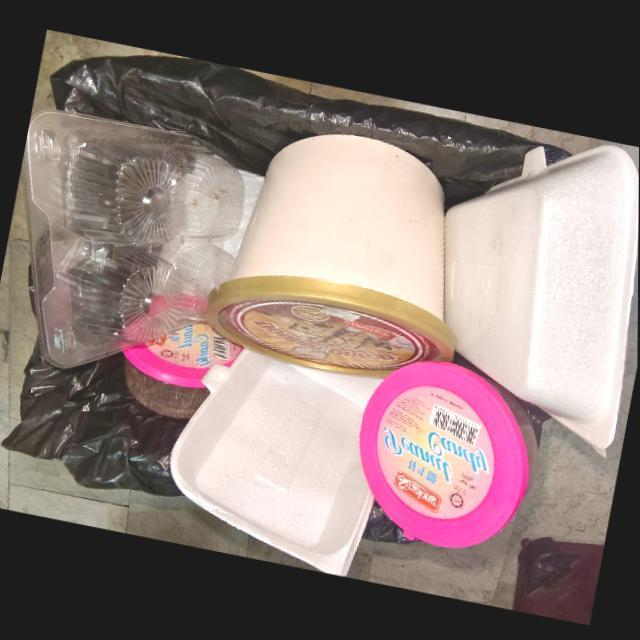plastic: (205, 130, 458, 375), (21, 106, 245, 367), (359, 357, 539, 545), (122, 320, 244, 417)
styrofoam: (443, 139, 639, 453), (170, 346, 384, 574)
